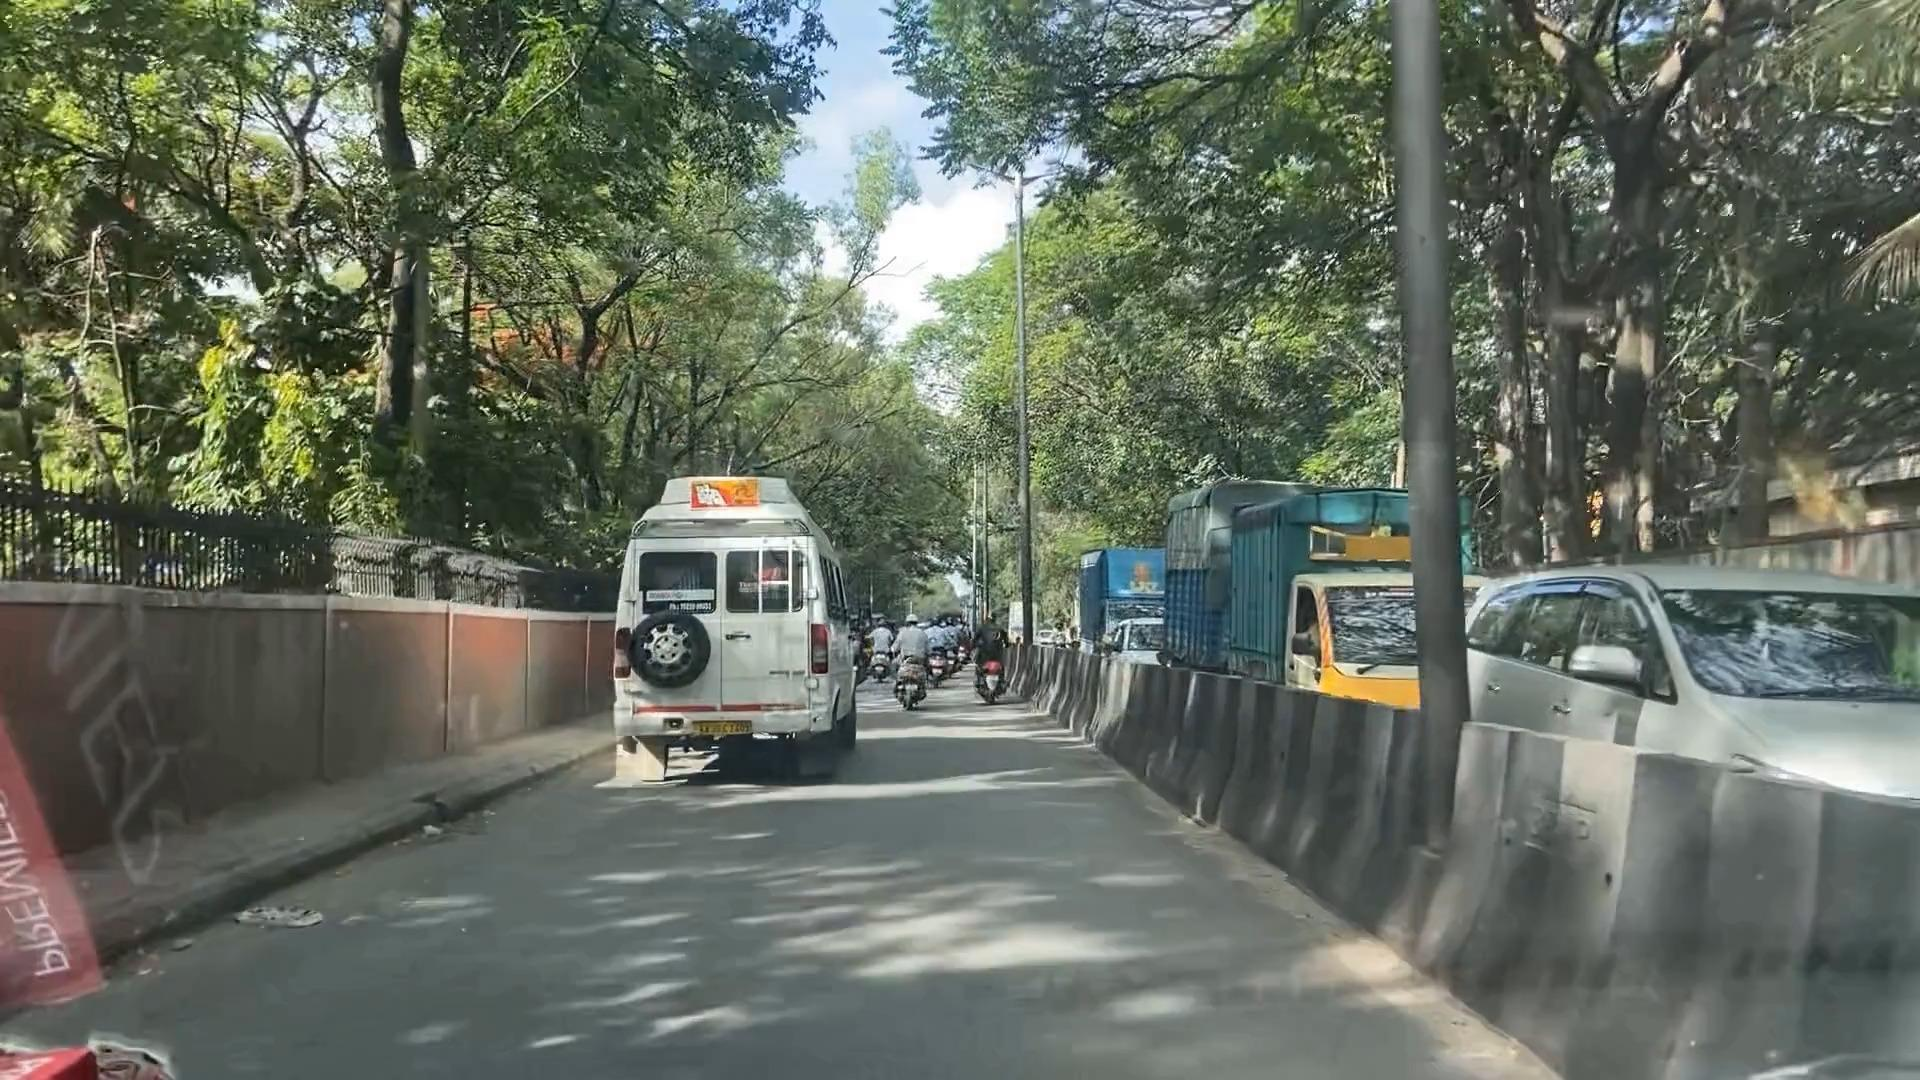HMV: (613, 463, 836, 798)
LMV: (967, 607, 1015, 707), (893, 617, 932, 707)
